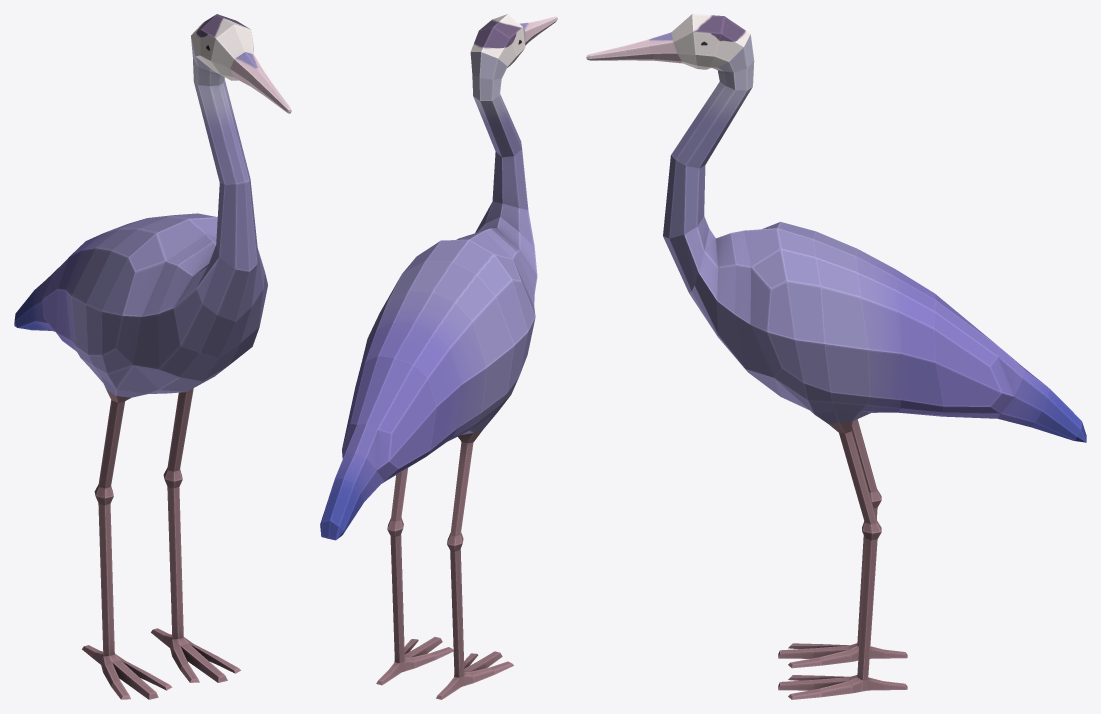
The model's file is 0ca8356f-a048-4af2-8756-7ebbc50cfe09.glb.
3 renders of one model, left to right at view 1: azimuth 30°, elevation 25°; view 2: azimuth 150°, elevation 25°; view 3: azimuth 270°, elevation 25°, orthographic. The views are drawn at different scales.
Visible parts, largest first — view 1: BlueHeron_mesh; view 2: BlueHeron_mesh; view 3: BlueHeron_mesh.
Part boxes in pixels (x1,y1,x2,y2): BlueHeron_mesh: [14, 14, 291, 699]; BlueHeron_mesh: [320, 14, 557, 699]; BlueHeron_mesh: [586, 14, 1086, 699].
Bounding box in the file's own units: 3.1 × 13.3 × 9.16.
1 material, 1 textured.
